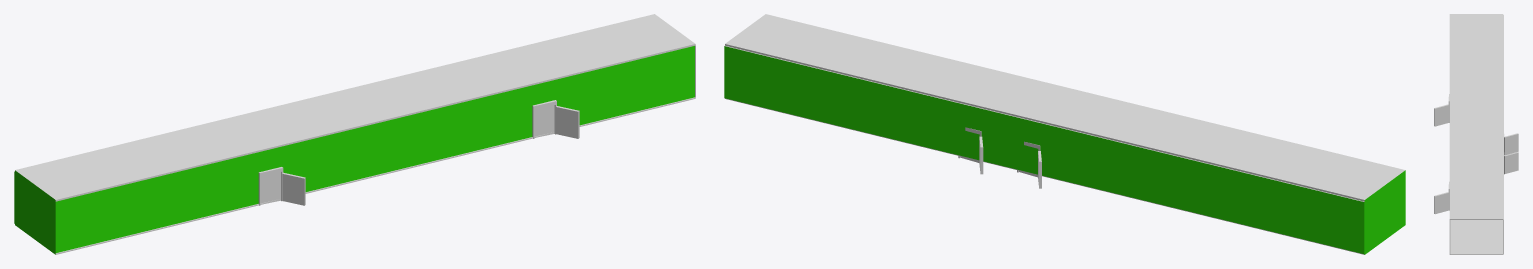
File: pasillo.fbx
3 views of the same model, side by side, from view 1: azimuth 30°, elevation 25°; view 2: azimuth 150°, elevation 25°; view 3: azimuth 270°, elevation 25° (orthographic). The views are drawn at different scales.
Visible parts, largest first — view 1: Cubo.011; view 2: Cubo.011; view 3: Cubo.011.
Part boxes in pixels (left/top/right/bottom): Cubo.011: left=14, top=14, right=695, bottom=254; Cubo.011: left=724, top=14, right=1405, bottom=254; Cubo.011: left=1434, top=14, right=1518, bottom=254.
Bounding box in the file's own units: 4036 × 345 × 705.
